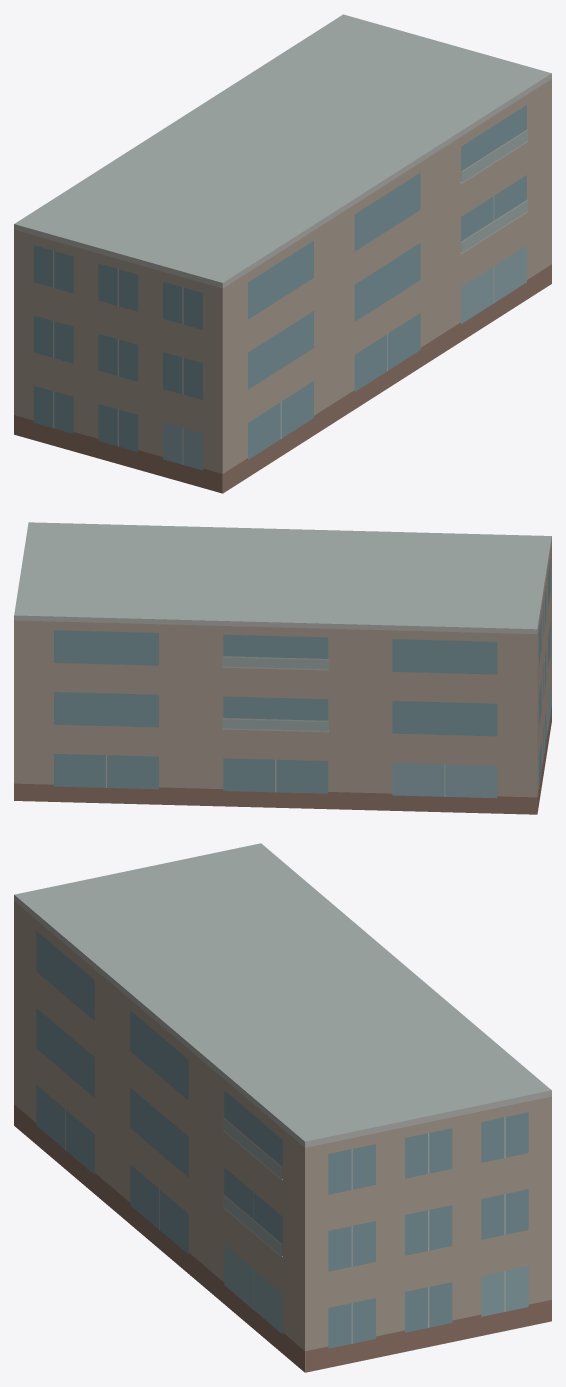
The model's file is survey-upis-32697202.glb.
The picture shows the model from 3 angles, top to bottom: view 1: azimuth 30°, elevation 25°; view 2: azimuth 150°, elevation 25°; view 3: azimuth 270°, elevation 25°; orthographic projection. The views are drawn at different scales.
Parts seen in each view (by area): view 1: survey-upis-32697202.tmp; view 2: survey-upis-32697202.tmp; view 3: survey-upis-32697202.tmp.
Part boxes in pixels (left/top/right/bottom): survey-upis-32697202.tmp: left=14, top=14, right=551, bottom=493; survey-upis-32697202.tmp: left=14, top=522, right=551, bottom=814; survey-upis-32697202.tmp: left=14, top=843, right=551, bottom=1372.
Size of the model in its own units: 25.38 by 9.15 by 19.32.
